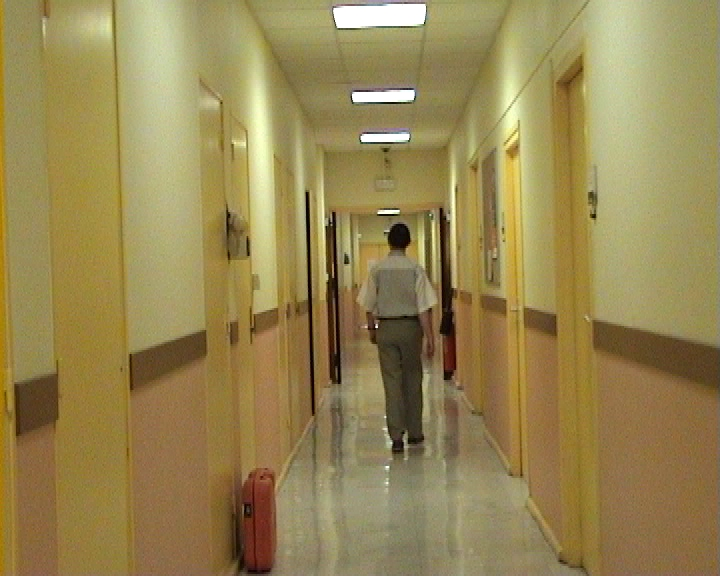leave bag unattended: (205, 442, 303, 576)
